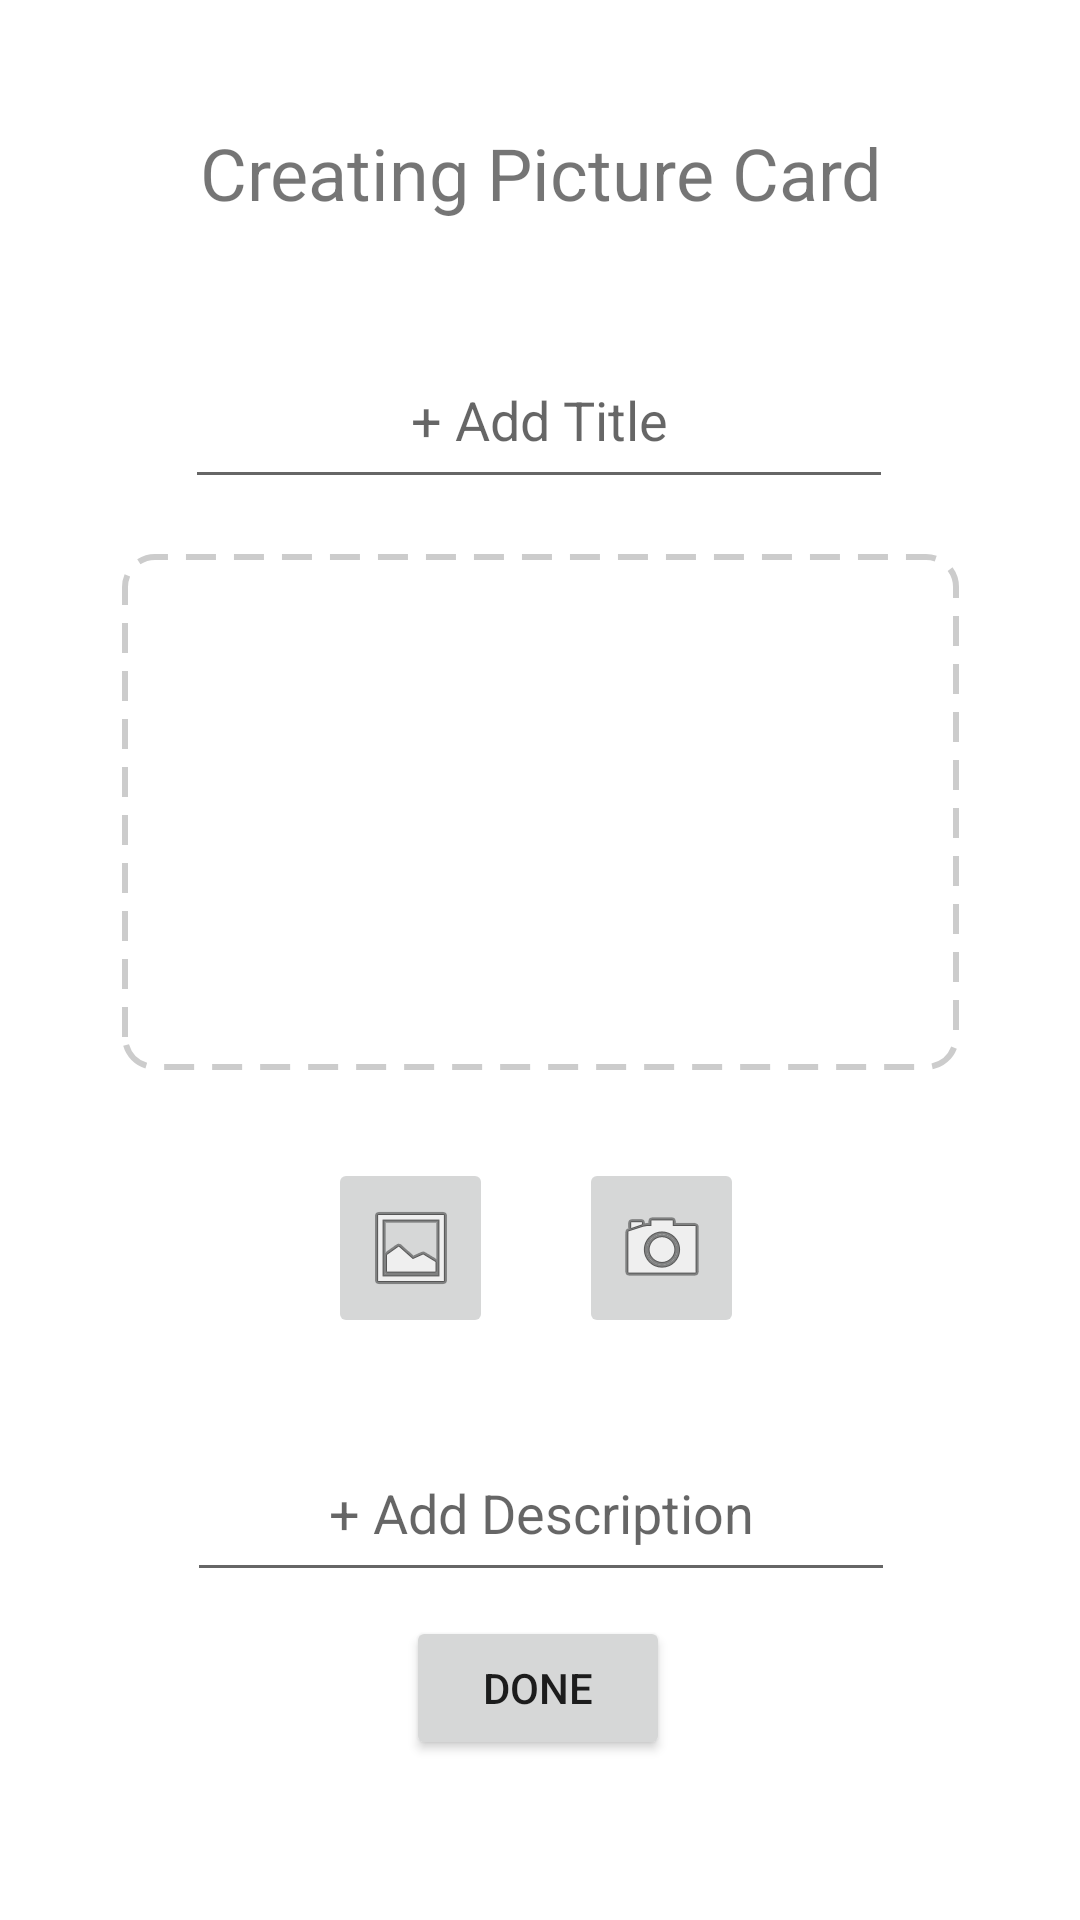

Icon bounding boxes for this 1080x1920 phone screenshot, format (x1, y1, x2, y2):
camera: (591, 1176, 732, 1320)
gallery: (340, 1176, 481, 1320)
